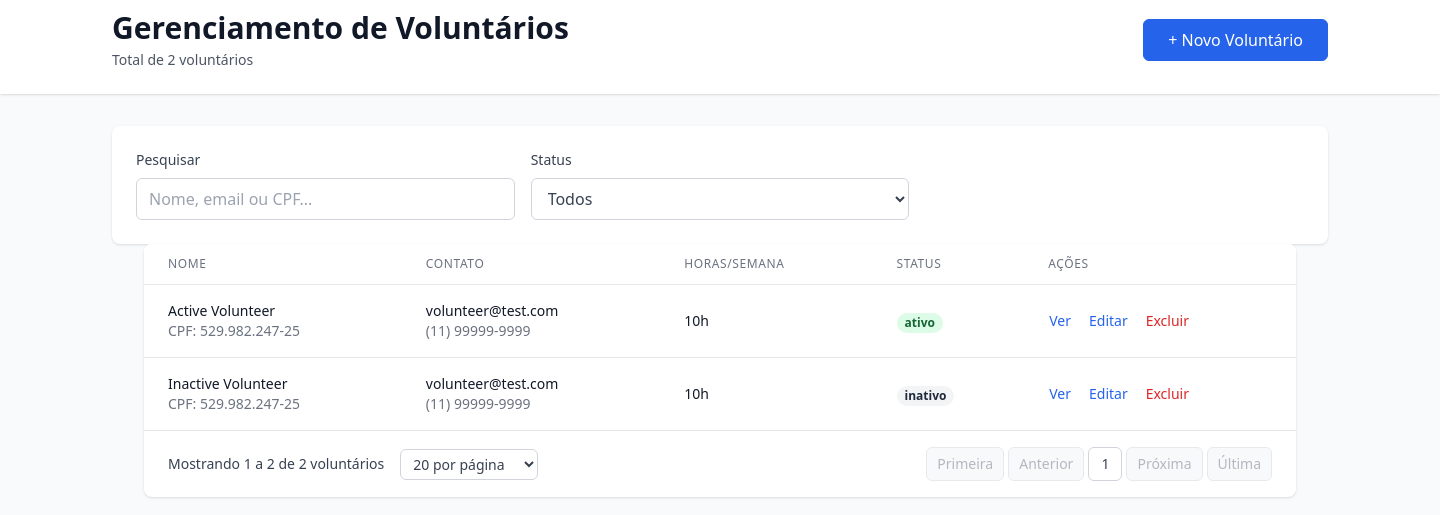
Test: ONGVolunteersPage › Filtering › should filter volunteers by status
Expected: the text "Active Volunteer" is shown, x1=168 y1=301 x2=275 y2=320
Expected: the text "Inactive Volunteer" is shown, x1=168 y1=374 x2=287 y2=393
Select "Ativo" in the 1st dropdown: (720, 199) x1=531 y1=178 x2=909 y2=220
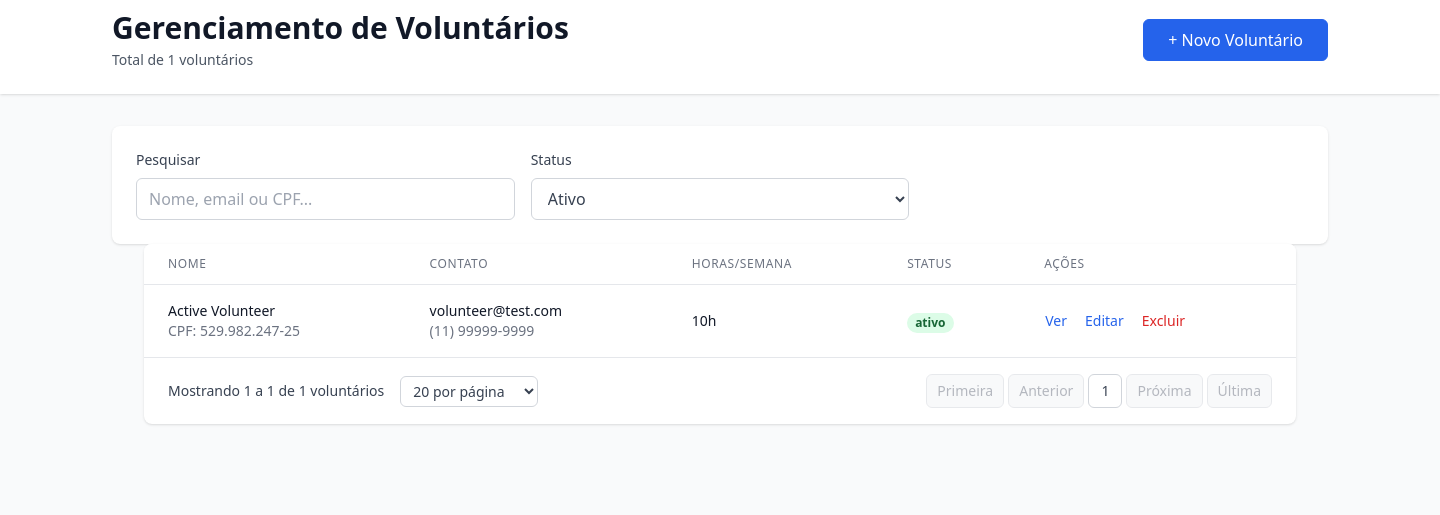
Expected: the text "Active Volunteer" is shown, x1=168 y1=301 x2=275 y2=320
Expected: the text "Inactive Volunteer" is gone
